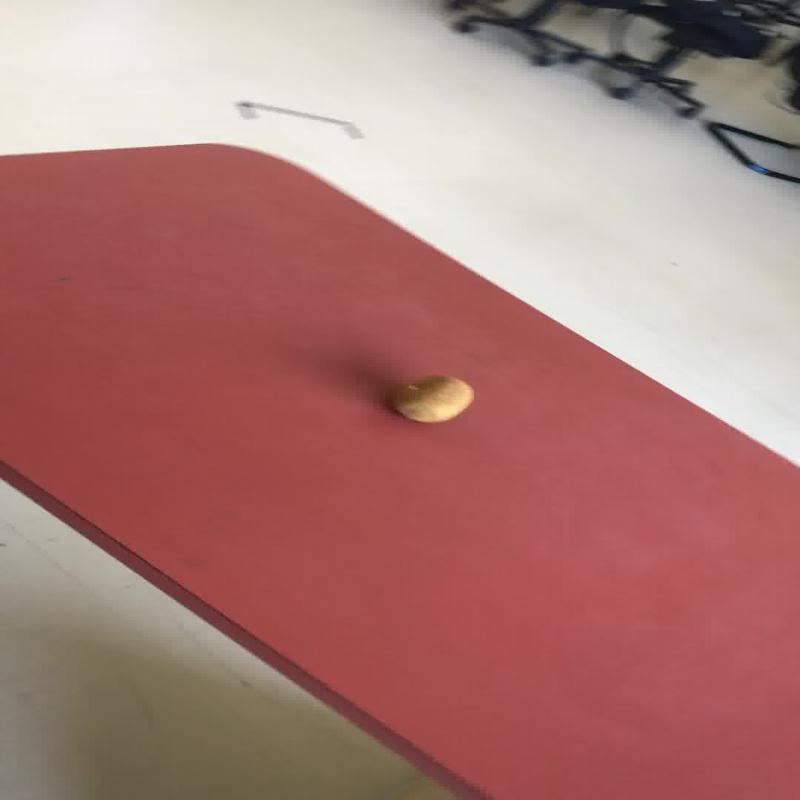kiwi: (390, 374, 474, 424)
